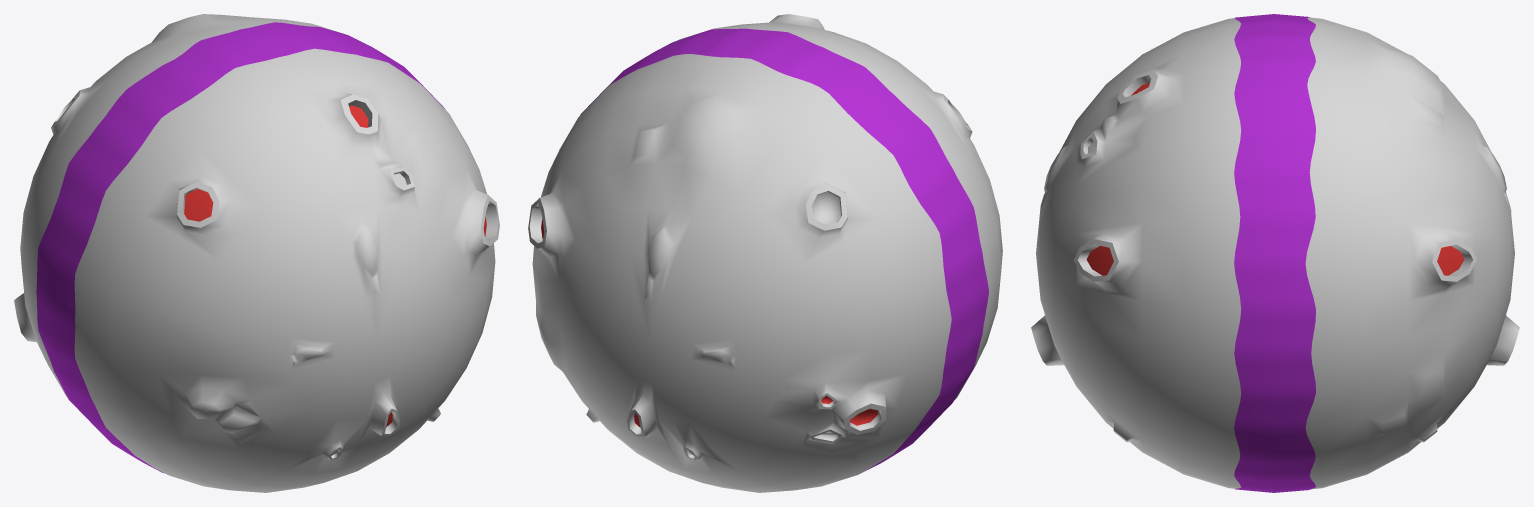
File: Planet.fbx
3 renders of one model, left to right at view 1: azimuth 30°, elevation 25°; view 2: azimuth 150°, elevation 25°; view 3: azimuth 270°, elevation 25°, orthographic.
Parts seen in each view (by area): view 1: Sphere.001; view 2: Sphere.001; view 3: Sphere.001.
Boxes of the visible parts, x1,y1,x2,y2 form: Sphere.001: (14, 14, 499, 492); Sphere.001: (528, 14, 1002, 492); Sphere.001: (1031, 14, 1519, 492).
Size of the model in its own units: 2505 by 2505 by 2551.
